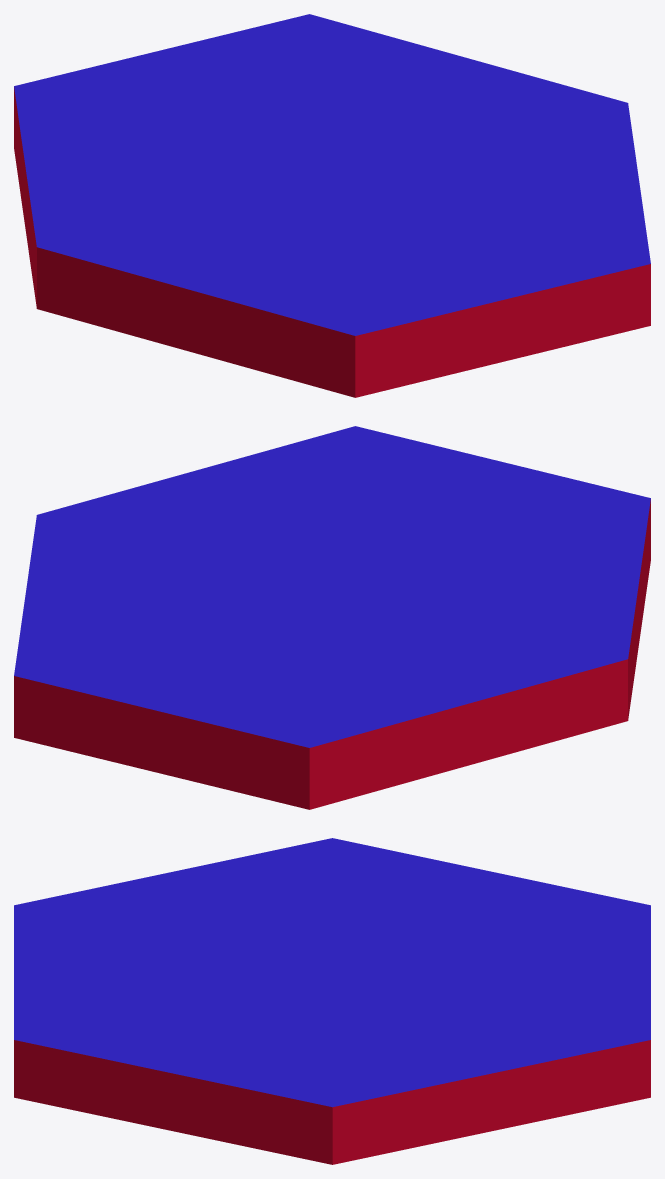
Rendered from TrapPoison.fbx.
The picture shows the model from 3 angles, top to bottom: view 1: azimuth 30°, elevation 25°; view 2: azimuth 150°, elevation 25°; view 3: azimuth 270°, elevation 25°; orthographic projection. The views are drawn at different scales.
Parts seen in each view (by area): view 1: Icosphere; view 2: Icosphere; view 3: Icosphere.
Part boxes in pixels (bbox=[...]): Icosphere: bbox=[14, 14, 650, 397]; Icosphere: bbox=[14, 426, 650, 809]; Icosphere: bbox=[14, 838, 650, 1164].
Size of the model in its own units: 100 by 10 by 100.
